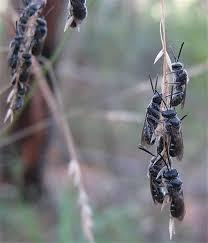Lasioglossum: (158, 102, 191, 166), (165, 45, 194, 110), (162, 164, 188, 224), (141, 72, 161, 149), (145, 151, 167, 206), (20, 18, 49, 59), (64, 0, 89, 35), (6, 36, 19, 71), (18, 55, 30, 83), (15, 81, 25, 113)
